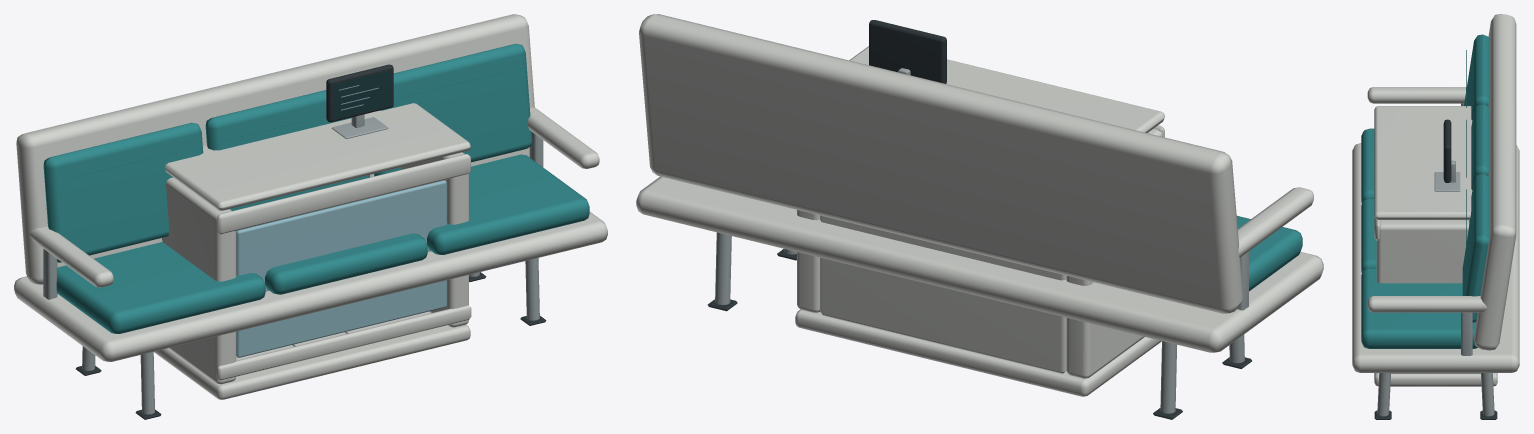
File: lobby.glb
3 renders of one model, left to right at view 1: azimuth 30°, elevation 25°; view 2: azimuth 150°, elevation 25°; view 3: azimuth 270°, elevation 25°, orthographic. The views are drawn at different scales.
Parts seen in each view (by area): view 1: WaitingBench, ReceptionCounter; view 2: WaitingBench, ReceptionCounter; view 3: WaitingBench, ReceptionCounter.
Boxes of the visible parts, x1,y1,x2,y2 form: WaitingBench: (14,14,607,419); ReceptionCounter: (154,64,471,399); WaitingBench: (636,14,1323,419); ReceptionCounter: (795,20,1164,396); WaitingBench: (1352,14,1519,419); ReceptionCounter: (1374,106,1497,386).
Bounding box in the file's own units: 2 × 0.965 × 0.65.
